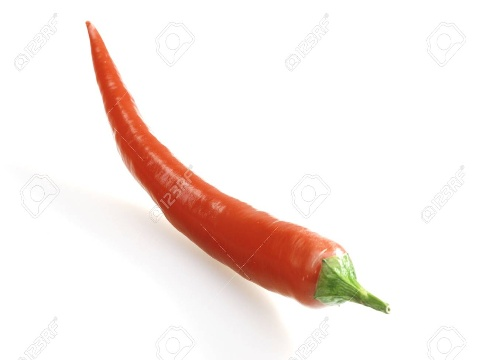Chilli: (56, 15, 399, 323)
